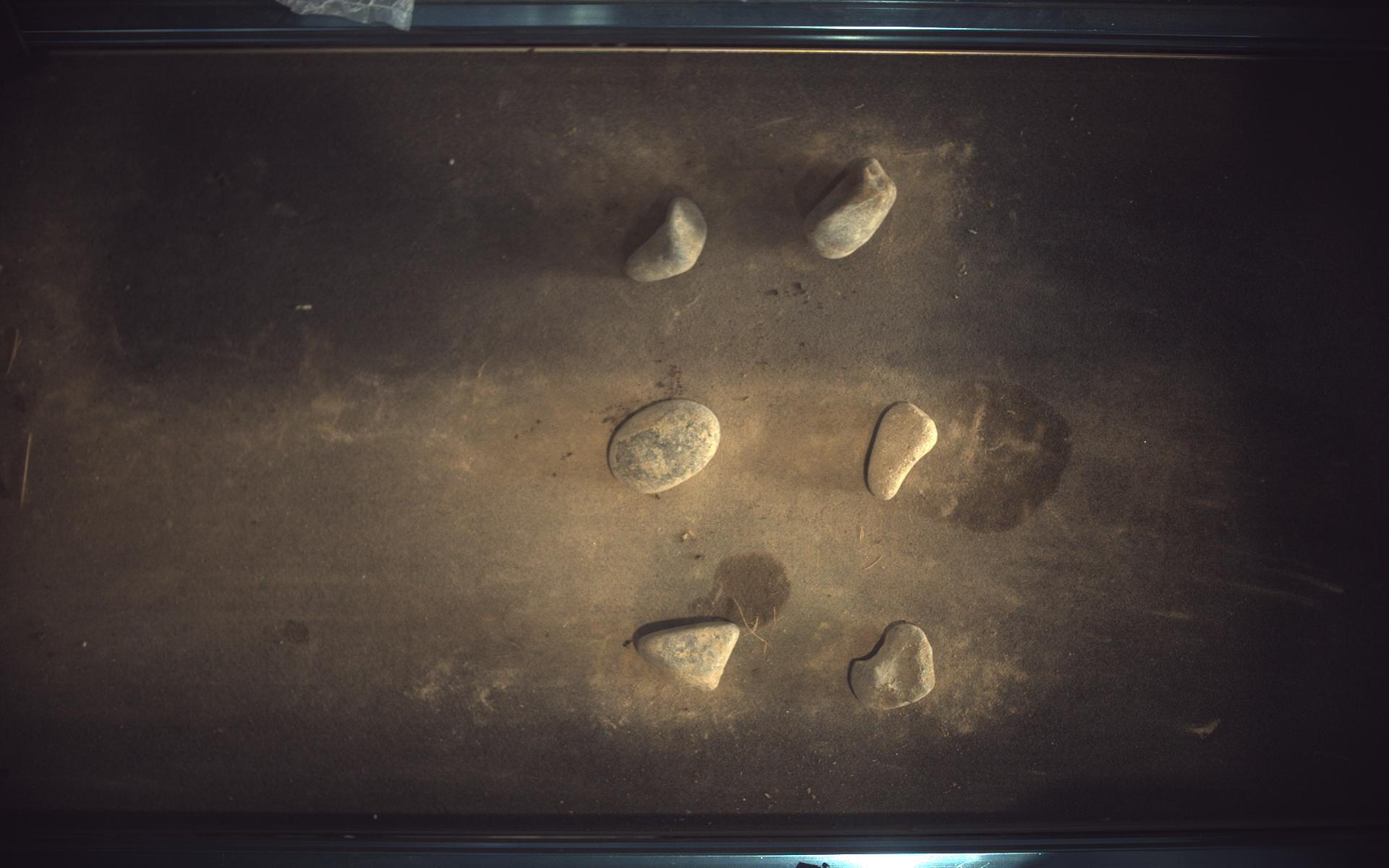stone: (608, 399, 721, 494), (805, 156, 899, 258), (851, 622, 937, 711), (635, 621, 741, 692), (868, 402, 940, 501), (626, 197, 708, 281)
